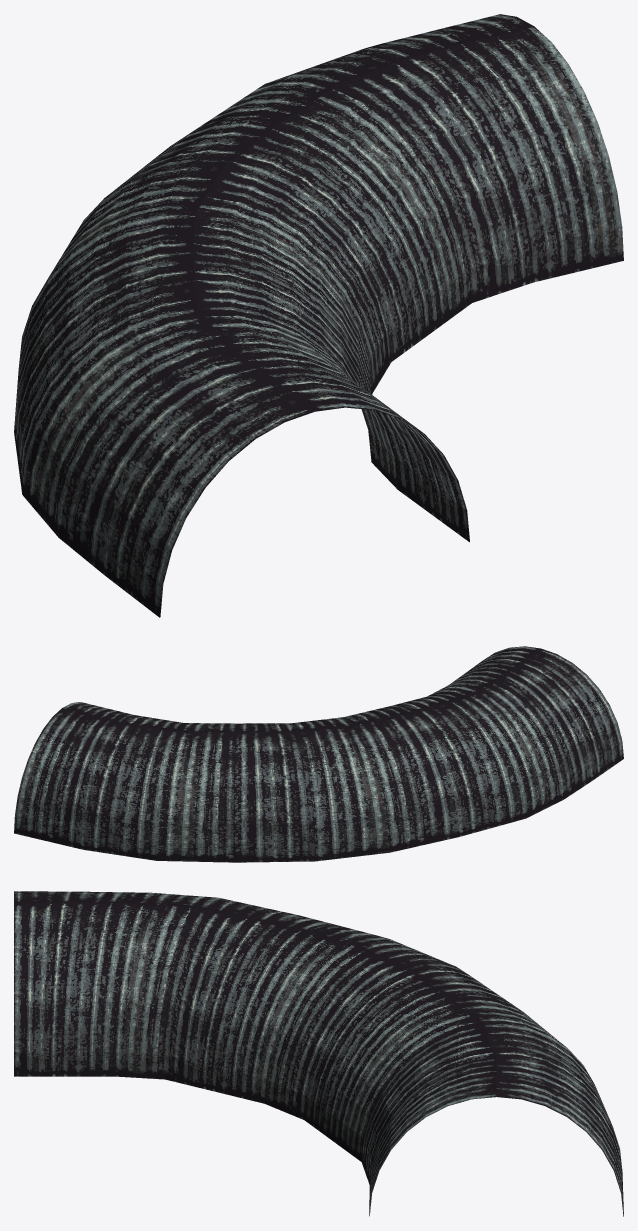
Rendered from SM_EU_MetalTunnel_Bend_0.fbx.
3 renders of one model, top to bottom at view 1: azimuth 30°, elevation 25°; view 2: azimuth 150°, elevation 25°; view 3: azimuth 270°, elevation 25°, orthographic. The views are drawn at different scales.
Visible parts, largest first — view 1: SM_EU_MetalTunnel_Bend_0; view 2: SM_EU_MetalTunnel_Bend_0; view 3: SM_EU_MetalTunnel_Bend_0.
Boxes of the visible parts, left/top/right/bottom form: SM_EU_MetalTunnel_Bend_0: left=14, top=14, right=623, bottom=617; SM_EU_MetalTunnel_Bend_0: left=14, top=646, right=623, bottom=862; SM_EU_MetalTunnel_Bend_0: left=14, top=891, right=623, bottom=1216.
Size of the model in its own units: 11.5 by 11.97 by 2.6.
